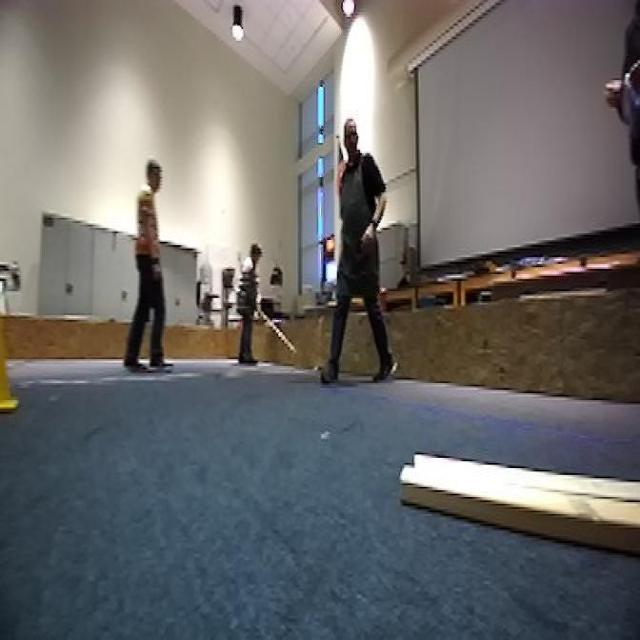frc_cone: (0, 325, 25, 419)
